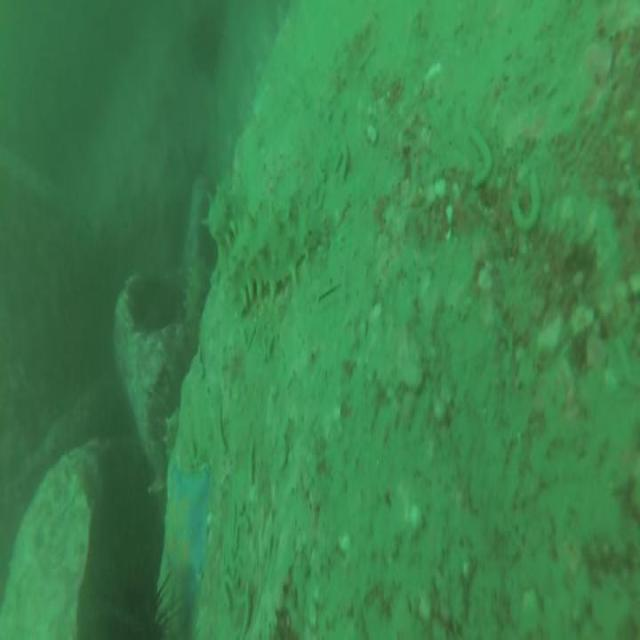echinus: (83, 575, 174, 640), (121, 267, 188, 337), (183, 13, 224, 85)
holothurian: (225, 190, 329, 313), (204, 171, 239, 248), (181, 254, 211, 338)
starfish: (158, 461, 214, 607)
